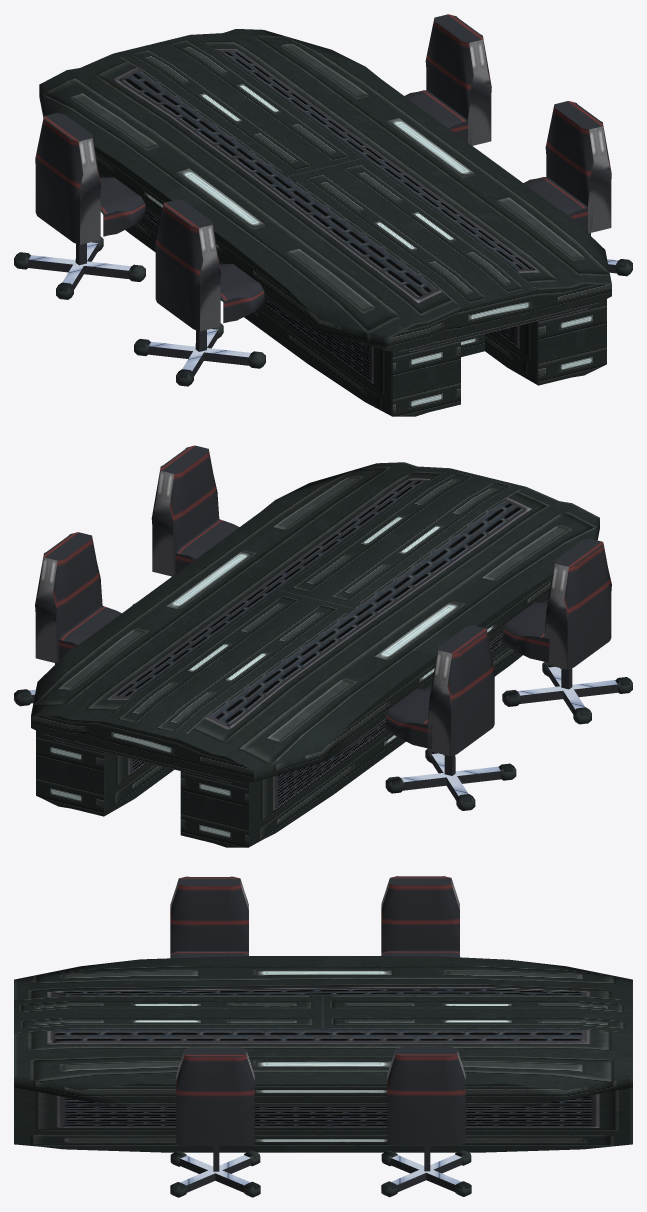
The model's file is prop_table_and_chairs.gltf.
3 renders of one model, top to bottom at view 1: azimuth 30°, elevation 25°; view 2: azimuth 150°, elevation 25°; view 3: azimuth 270°, elevation 25°, orthographic. The views are drawn at different scales.
Parts seen in each view (by area): view 1: table_office, chair_office1, chair_office, chair_office2, chair_office3; view 2: table_office, chair_office1, chair_office, chair_office3, chair_office2; view 3: table_office, chair_office3, chair_office2, chair_office, chair_office1.
Part boxes in pixels (x1,y1,x2,y2): table_office: (39,29,611,416); chair_office1: (14,113,145,299); chair_office: (134,199,265,386); chair_office2: (523,101,632,276); chair_office3: (404,14,491,145); table_office: (31,462,599,847); chair_office1: (385,625,516,810); chair_office: (502,538,632,724); chair_office3: (14,532,121,706); chair_office2: (132,445,239,605); table_office: (14,956,632,1152); chair_office3: (381,1047,471,1197); chair_office2: (170,1047,260,1197); chair_office: (170,876,248,958); chair_office1: (381,876,459,957).
Bounding box in the file's own units: 4.86 × 1.56 × 6.38.
Materials: 3 (3 with a texture image).
